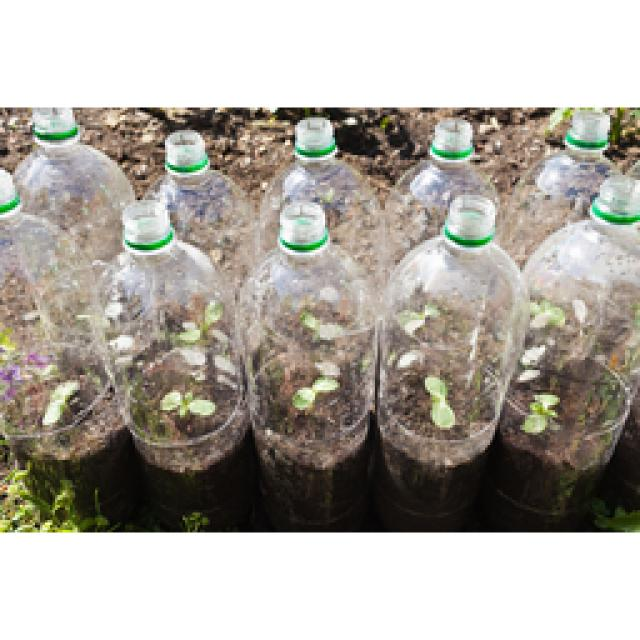plastic_water_bottles: (107, 190, 223, 475), (402, 173, 508, 467), (537, 177, 640, 460), (242, 200, 360, 445)
